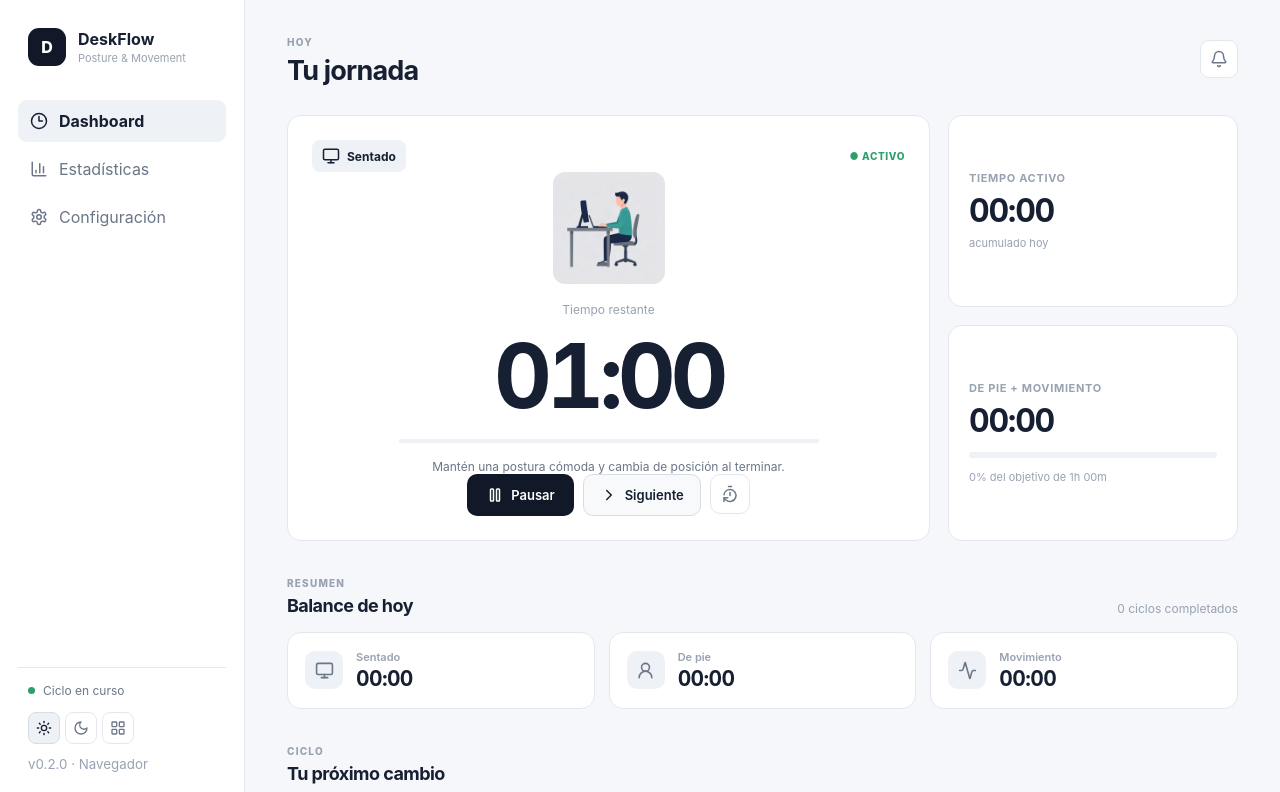
Test: persistence › switches the chart range
Press 2
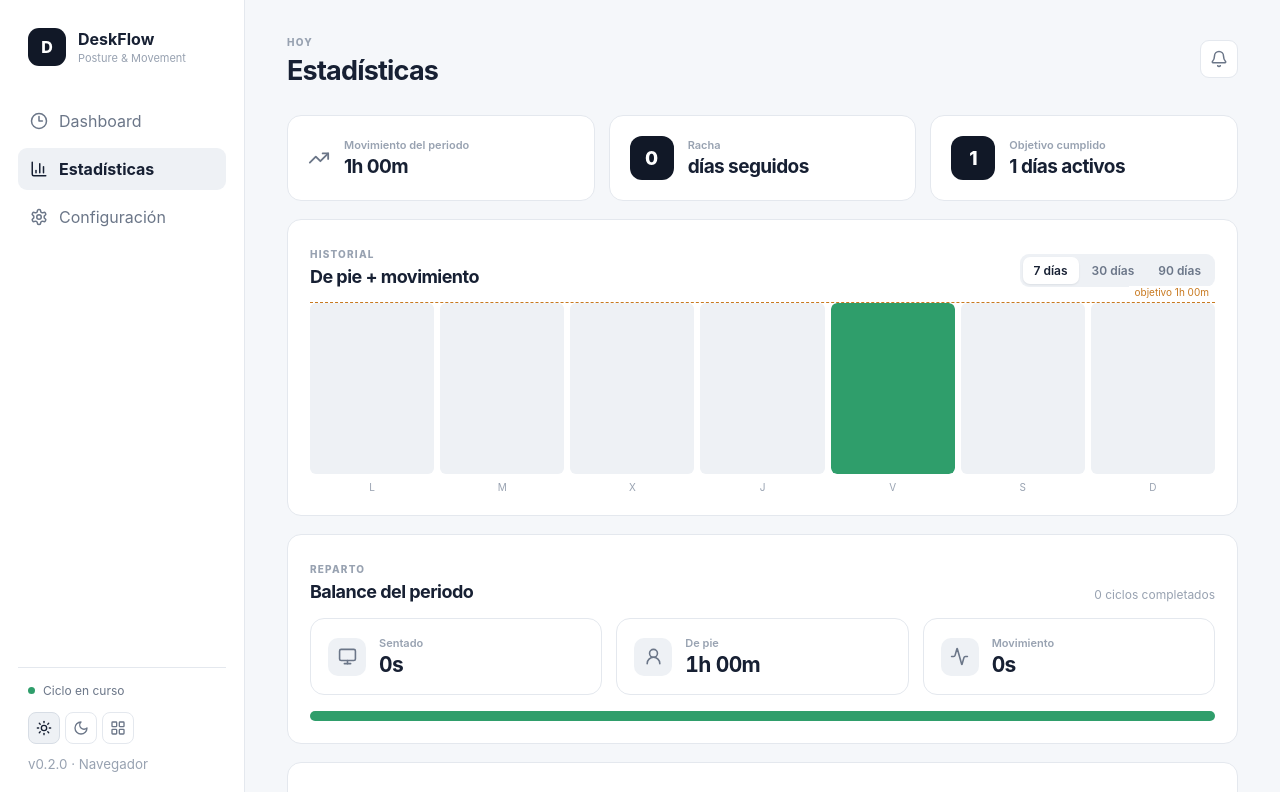
Result: the text "L" is shown 7 times
Click the button "90 días". click: (1180, 270)
box: [1147,257,1212,284]
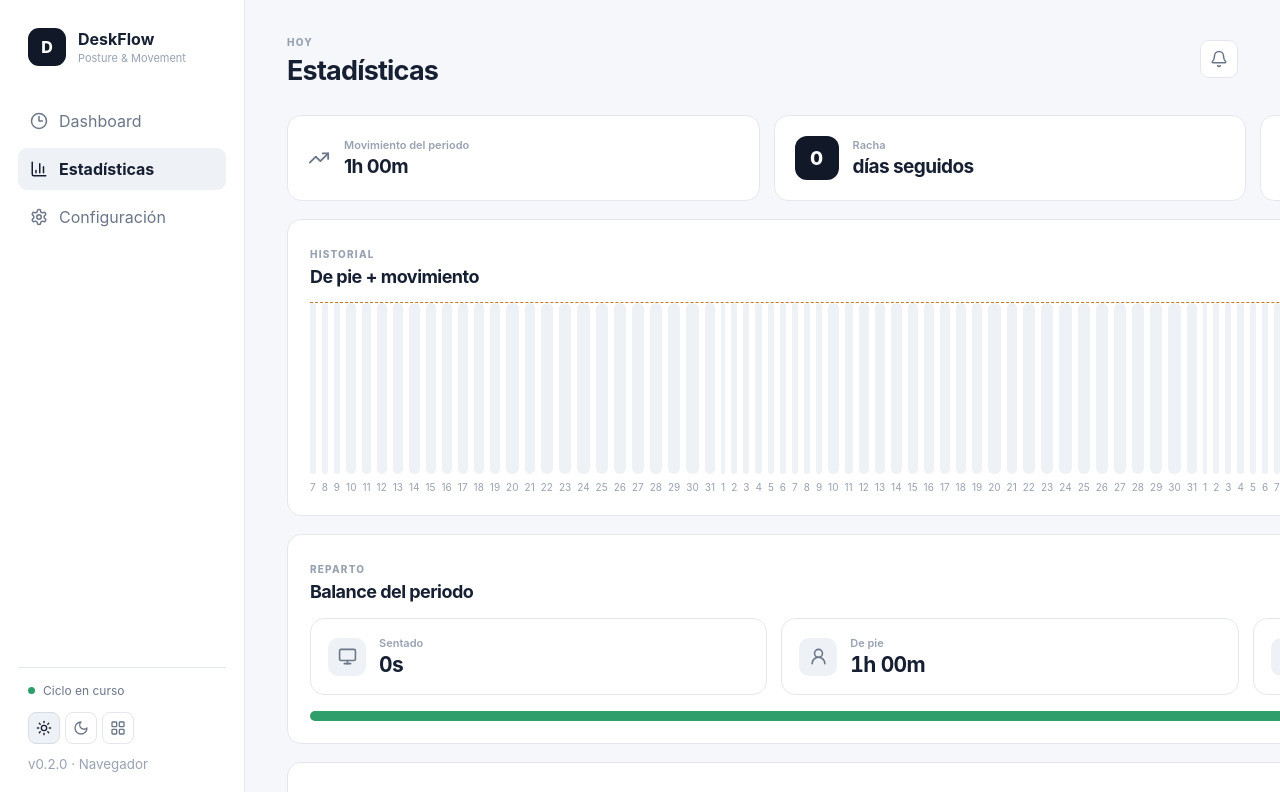
Result: the text "7" is shown 90 times
